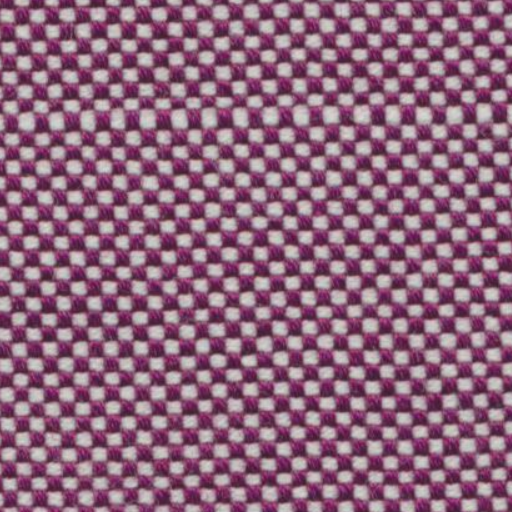TuoSha: (13, 87, 501, 152)
